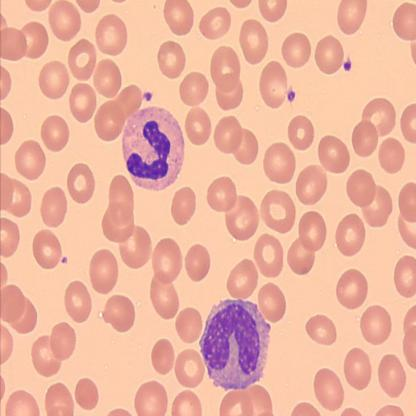Monocyte: (198, 296, 272, 392)
